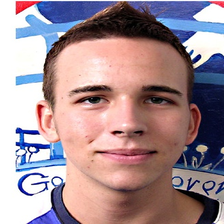no_mask: (50, 49, 188, 189)
